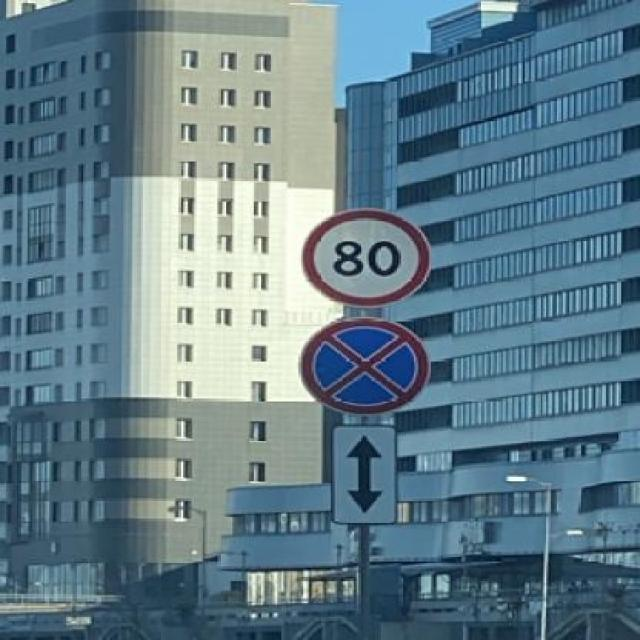forb_speed_over_80: (299, 206, 433, 308)
